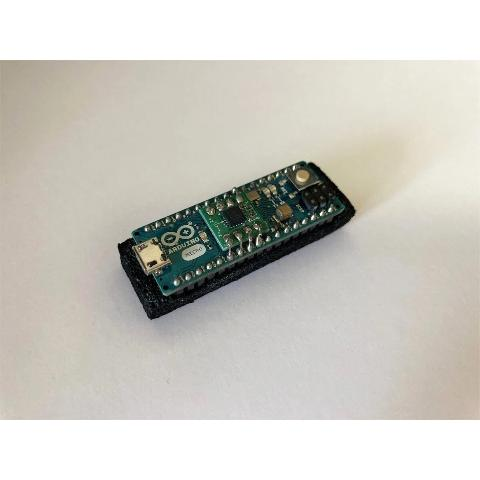Arduino-Micro: (128, 150, 350, 306)
